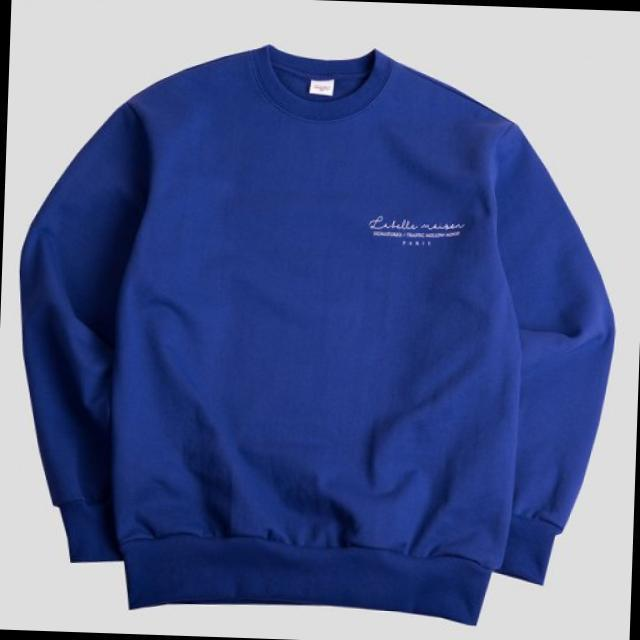sweater: (16, 42, 618, 630)
